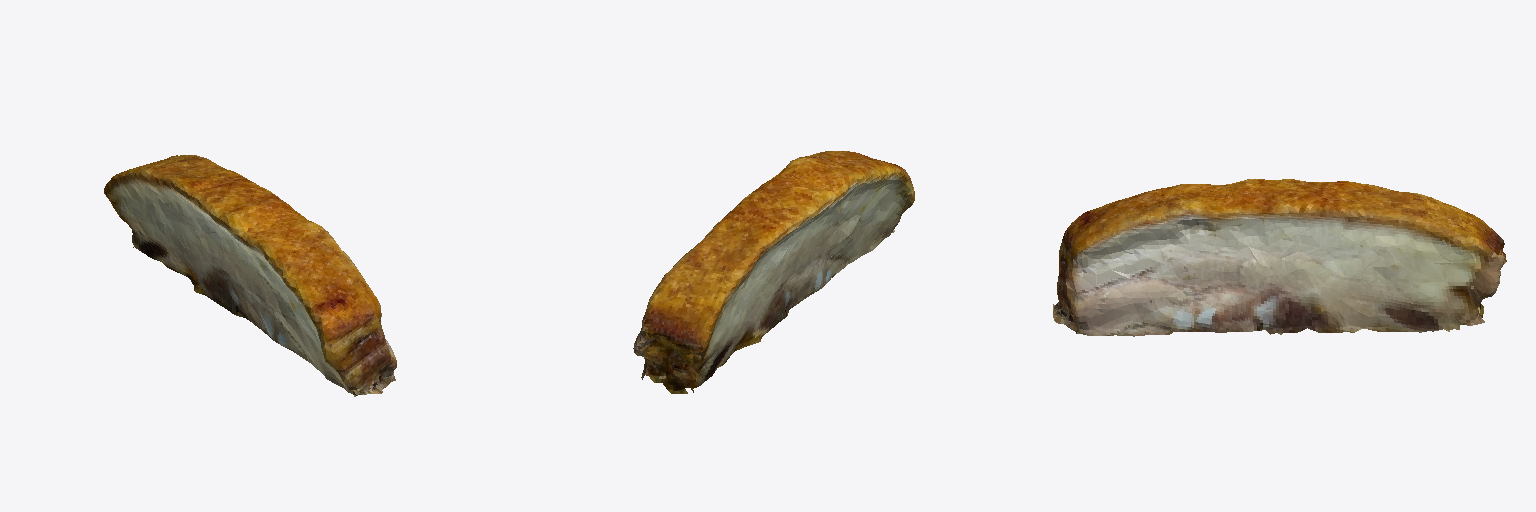
3 views of the same model, side by side, from view 1: azimuth 30°, elevation 25°; view 2: azimuth 150°, elevation 25°; view 3: azimuth 270°, elevation 25° (orthographic).
Parts seen in each view (by area): view 1: textured.002; view 2: textured.002; view 3: textured.002.
Part boxes in pixels (bbox=[...]): textured.002: bbox=[104, 155, 396, 396]; textured.002: bbox=[633, 151, 914, 393]; textured.002: bbox=[1053, 179, 1506, 336].
Bounding box in the file's own units: 0.0478 × 0.063 × 0.208.
1 materials, 1 textured.